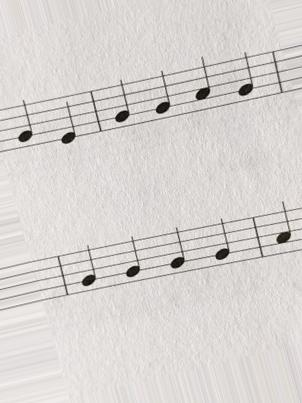A: (191, 52, 214, 122), (270, 199, 294, 262)
E: (55, 88, 82, 151)
G: (204, 211, 235, 274), (101, 76, 134, 131), (13, 92, 39, 154), (149, 64, 175, 126), (73, 243, 104, 295), (162, 222, 190, 278), (232, 50, 259, 108), (118, 234, 148, 283)
